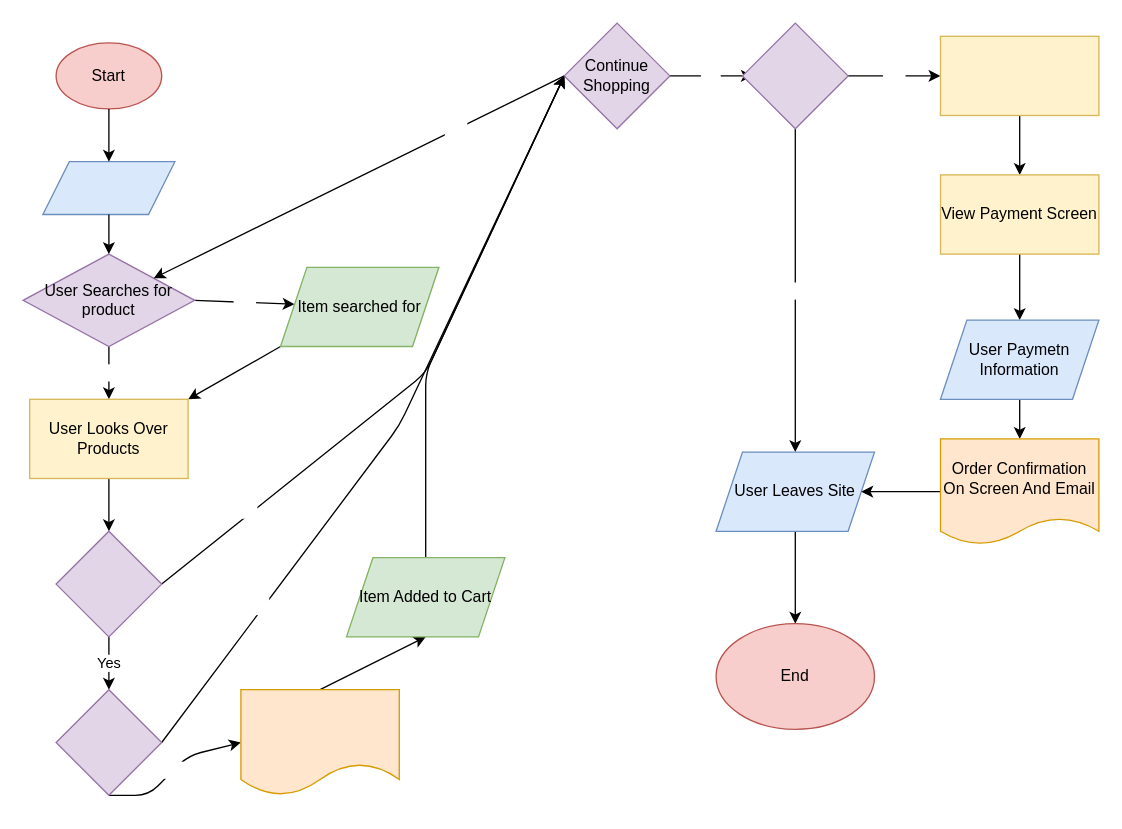
Image size: 1122x829. Some labels were removed from this diagram. Here are the shapes that lost their labels. From the top down, the box of each, then its label:
(741, 22, 848, 129): Checkout
(939, 35, 1099, 116): View Cart Screen
(42, 160, 175, 214): User Enters Website
(55, 530, 162, 637): View a specific product
(55, 688, 162, 795): Add to Cart
(240, 688, 399, 795): Give Add to Cart Confirmation
